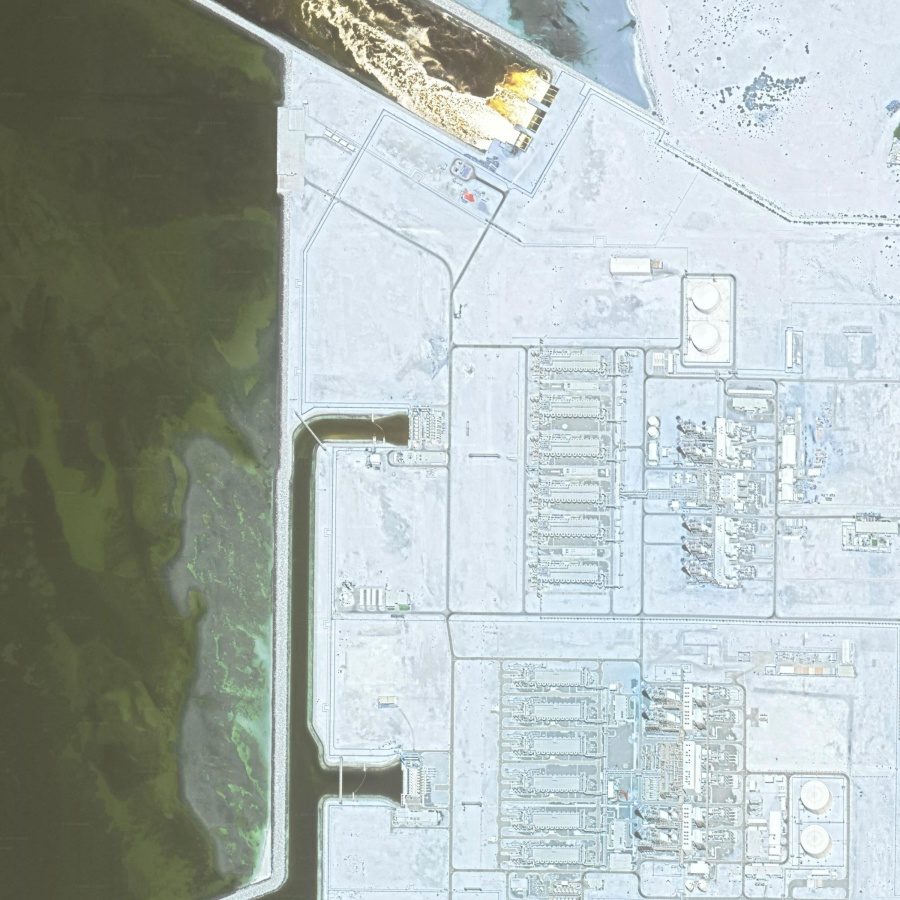PowerPlant: (524, 250, 855, 594)
